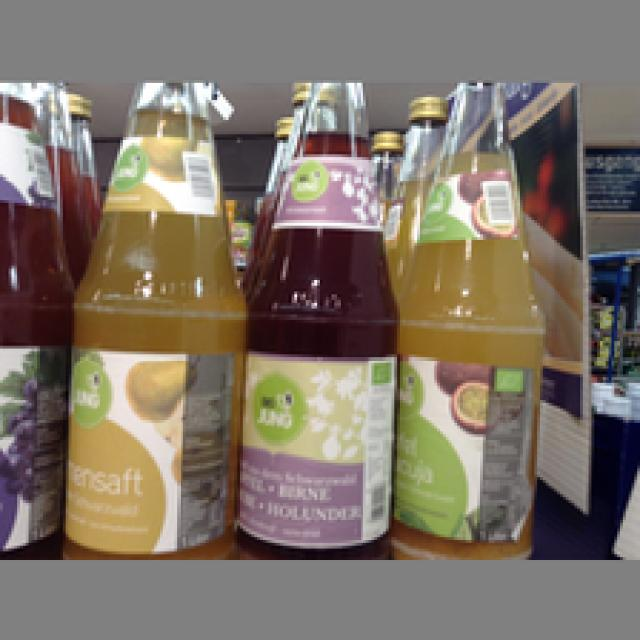groceries: (63, 80, 243, 554), (240, 80, 397, 554), (391, 80, 543, 554)
